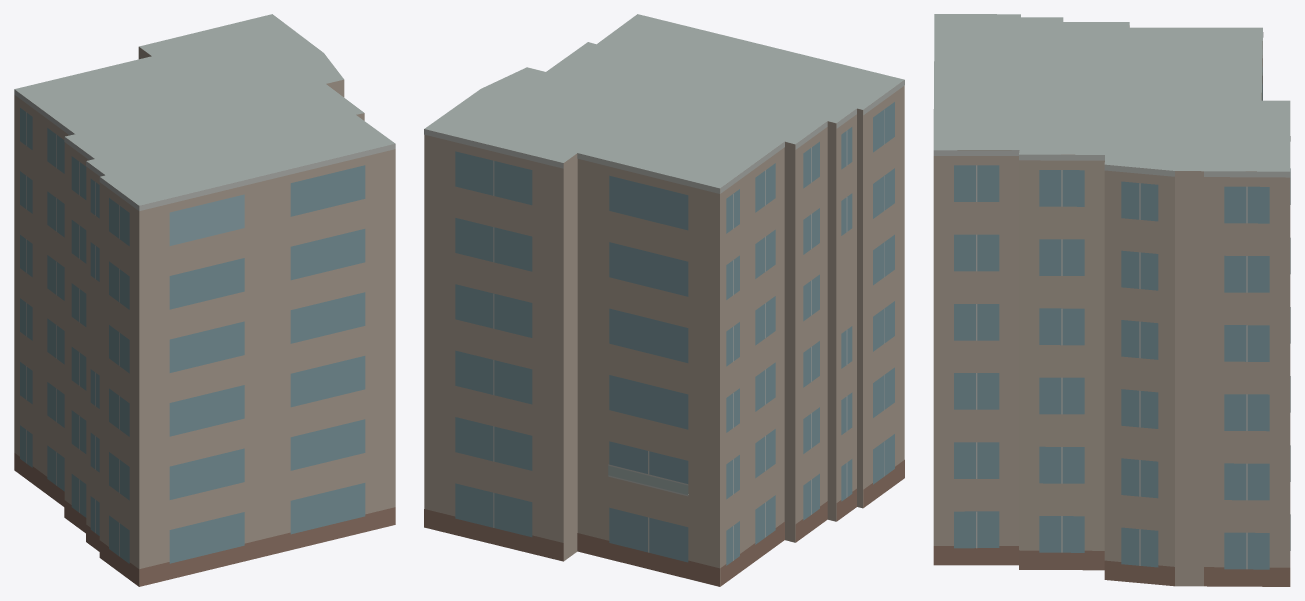
Rendered from survey-upis-32666138.glb.
The picture shows the model from 3 angles, left to right: view 1: azimuth 30°, elevation 25°; view 2: azimuth 150°, elevation 25°; view 3: azimuth 270°, elevation 25°; orthographic projection. The views are drawn at different scales.
Visible parts, largest first — view 1: survey-upis-32666138.tmp; view 2: survey-upis-32666138.tmp; view 3: survey-upis-32666138.tmp.
Boxes of the visible parts, bbox=[...] form: survey-upis-32666138.tmp: bbox=[14, 14, 395, 586]; survey-upis-32666138.tmp: bbox=[424, 14, 904, 586]; survey-upis-32666138.tmp: bbox=[933, 14, 1290, 586].
Bounding box in the file's own units: 14.1 × 17.3 × 13.49.
